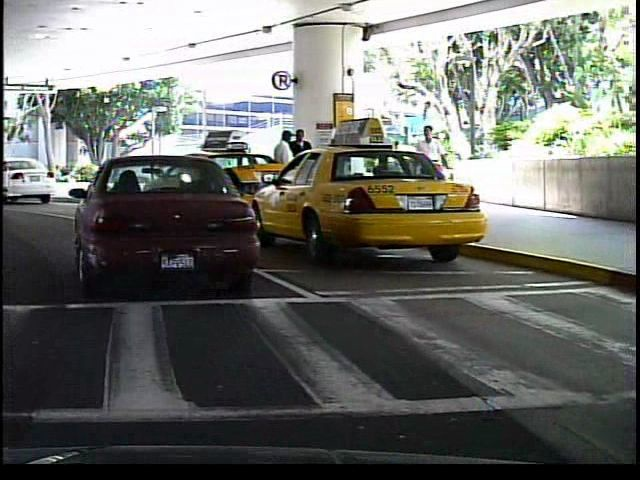person: (410, 120, 447, 213), (268, 126, 297, 211), (422, 131, 455, 205), (290, 126, 314, 206)
